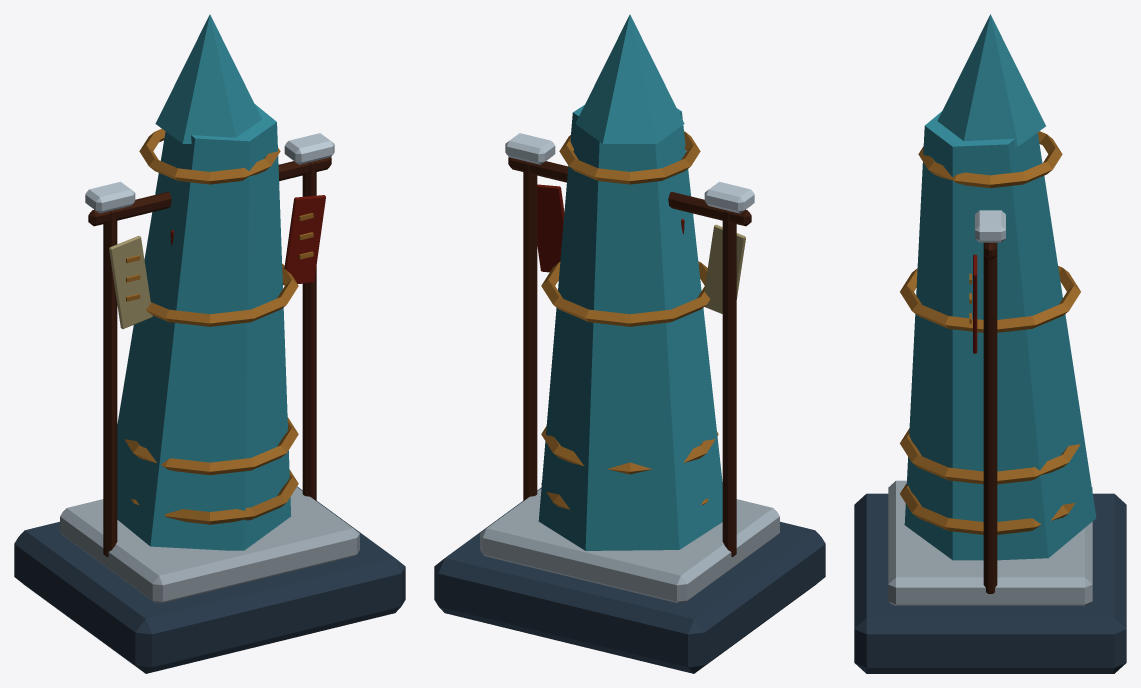
File: BO_SM_Prop_FrostPrayerCairn_v002.glb
The picture shows the model from 3 angles, left to right: view 1: azimuth 30°, elevation 25°; view 2: azimuth 150°, elevation 25°; view 3: azimuth 270°, elevation 25°; orthographic projection. The views are drawn at different scales.
Parts seen in each view (by area): view 1: SM_Prop_FrostPrayerCairn_LOD0; view 2: SM_Prop_FrostPrayerCairn_LOD0; view 3: SM_Prop_FrostPrayerCairn_LOD0.
Part boxes in pixels (x1=…): SM_Prop_FrostPrayerCairn_LOD0: x1=14, y1=14, x2=405, y2=673; SM_Prop_FrostPrayerCairn_LOD0: x1=434, y1=14, x2=825, y2=673; SM_Prop_FrostPrayerCairn_LOD0: x1=854, y1=14, x2=1126, y2=673.
Size of what is drawn, in the model's own units: 1.03 by 2.13 by 0.88.
